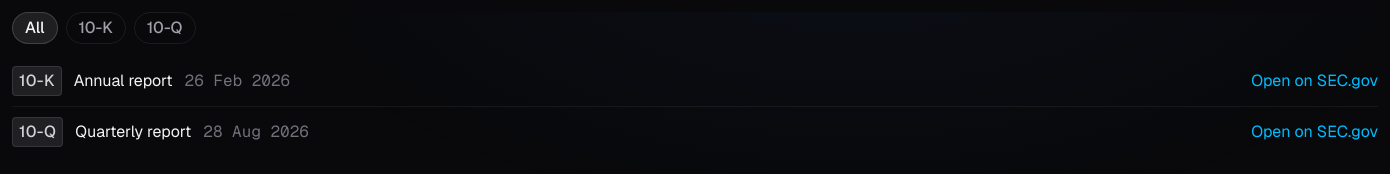
FilingsList › offers chips only for the forms present, filters and restores
Click the button "10-Q". click: (165,28)
box: [134, 12, 196, 44]
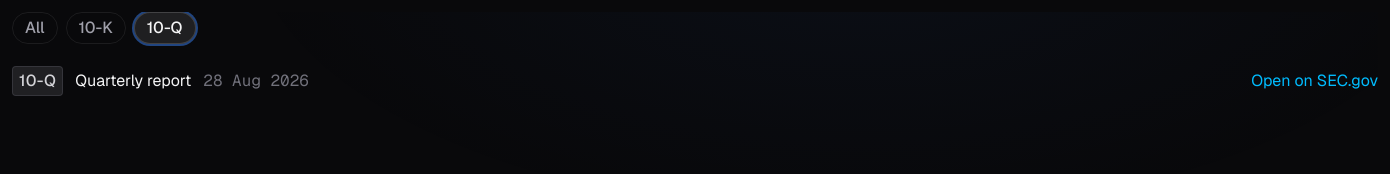
Expected: the text "Quarterly report" is shown, [75, 70, 191, 91]
Now the number of list items is 1, box [12, 56, 1378, 106]
Click the button "All". click: (35,28)
box: [12, 12, 58, 44]
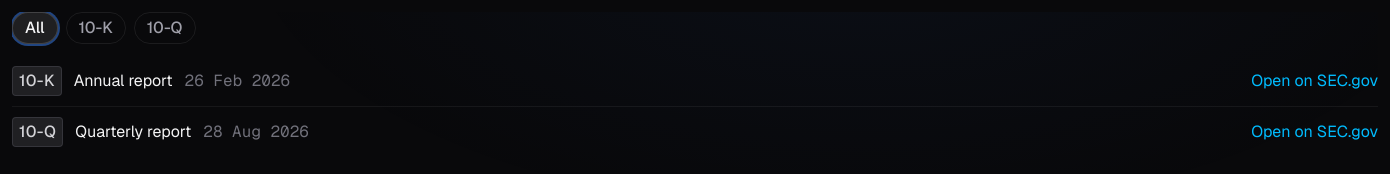
Now the number of list items is 2, box [12, 56, 1378, 107]; [12, 107, 1378, 157]
